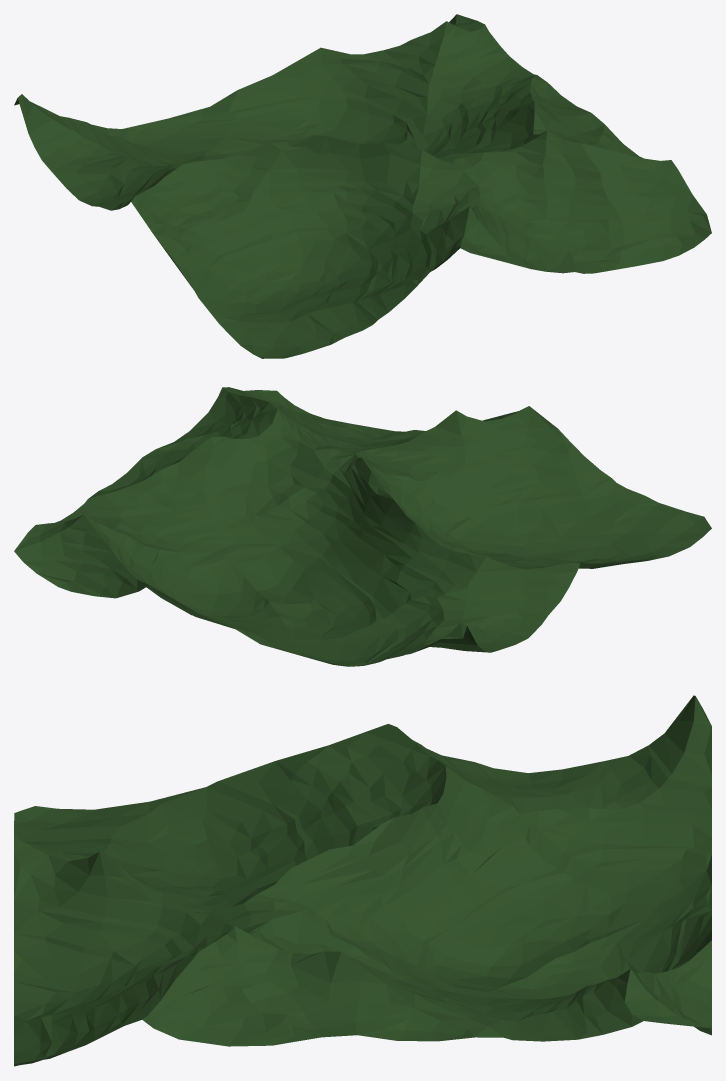
The model's file is SM_landscape_07.fbx.
3 views of the same model, one above another, from view 1: azimuth 30°, elevation 25°; view 2: azimuth 150°, elevation 25°; view 3: azimuth 270°, elevation 25° (orthographic). The views are drawn at different scales.
Visible parts, largest first — view 1: landscape_07; view 2: landscape_07; view 3: landscape_07.
Boxes of the visible parts, x1=… form: landscape_07: x1=14, y1=14, x2=711, y2=358; landscape_07: x1=14, y1=387, x2=711, y2=666; landscape_07: x1=14, y1=695, x2=711, y2=1066.
Bounding box in the file's own units: 2224 × 421 × 2224.
